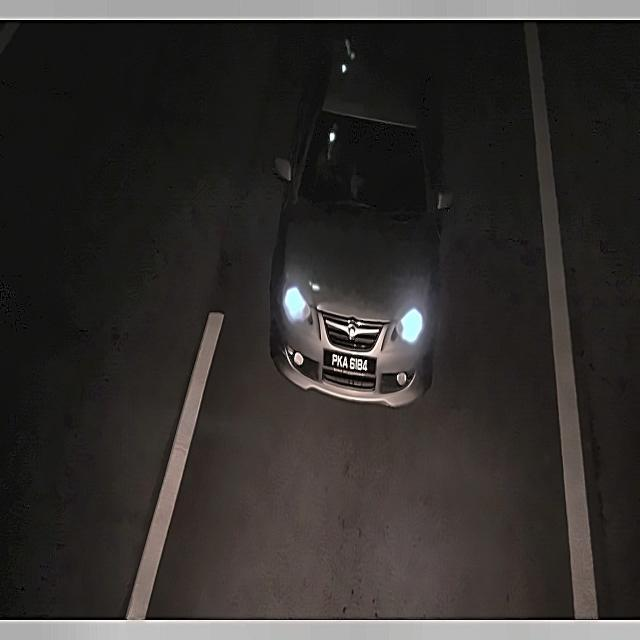car: (324, 342, 376, 384)
